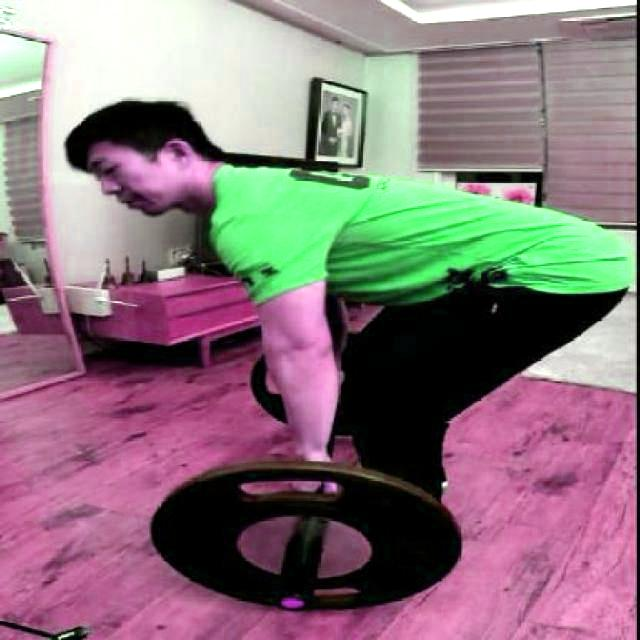barbell: (146, 452, 467, 615)
